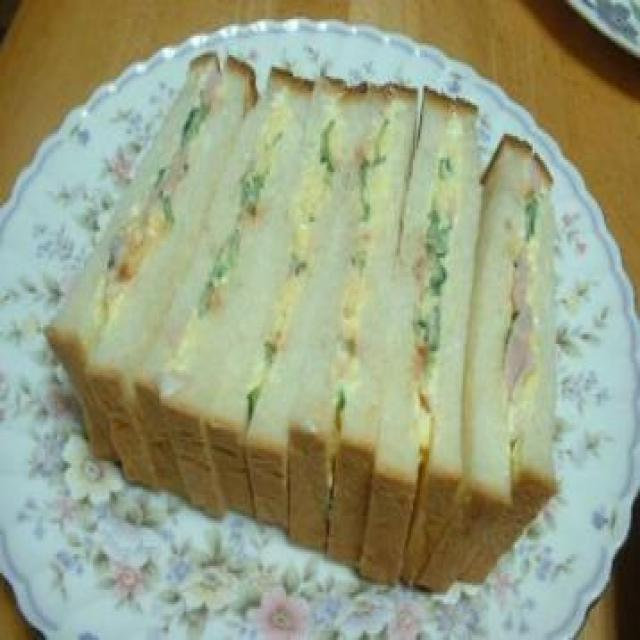三明治: (68, 57, 545, 595)
